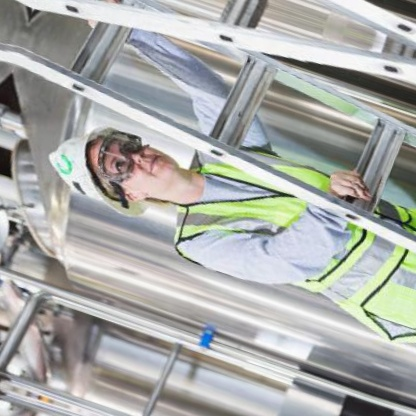vest: (143, 103, 416, 347)
white: (31, 107, 160, 223)
